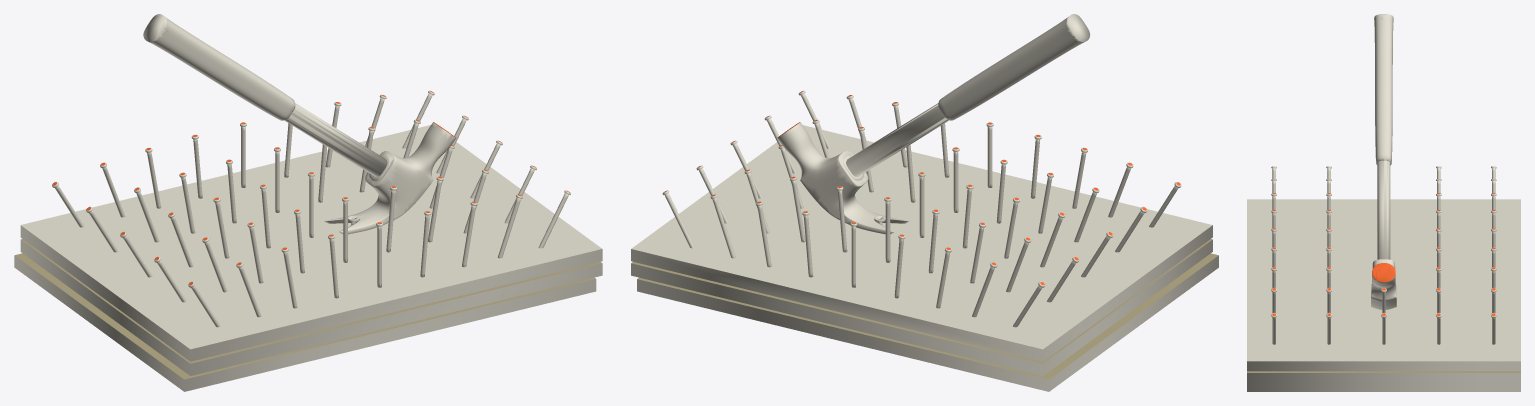
Rendered from sculpture.glb.
3 renders of one model, left to right at view 1: azimuth 30°, elevation 25°; view 2: azimuth 150°, elevation 25°; view 3: azimuth 270°, elevation 25°, orthographic. The views are drawn at different scales.
Parts seen in each view (by area): view 1: 43+1; view 2: 43+1; view 3: 43+1.
Boxes of the visible parts, x1,y1,x2,y2 form: 43+1: (14, 14, 602, 391); 43+1: (631, 14, 1218, 391); 43+1: (1247, 14, 1520, 391).
Bounding box in the file's own units: 2.13 × 1.46 × 1.5.
